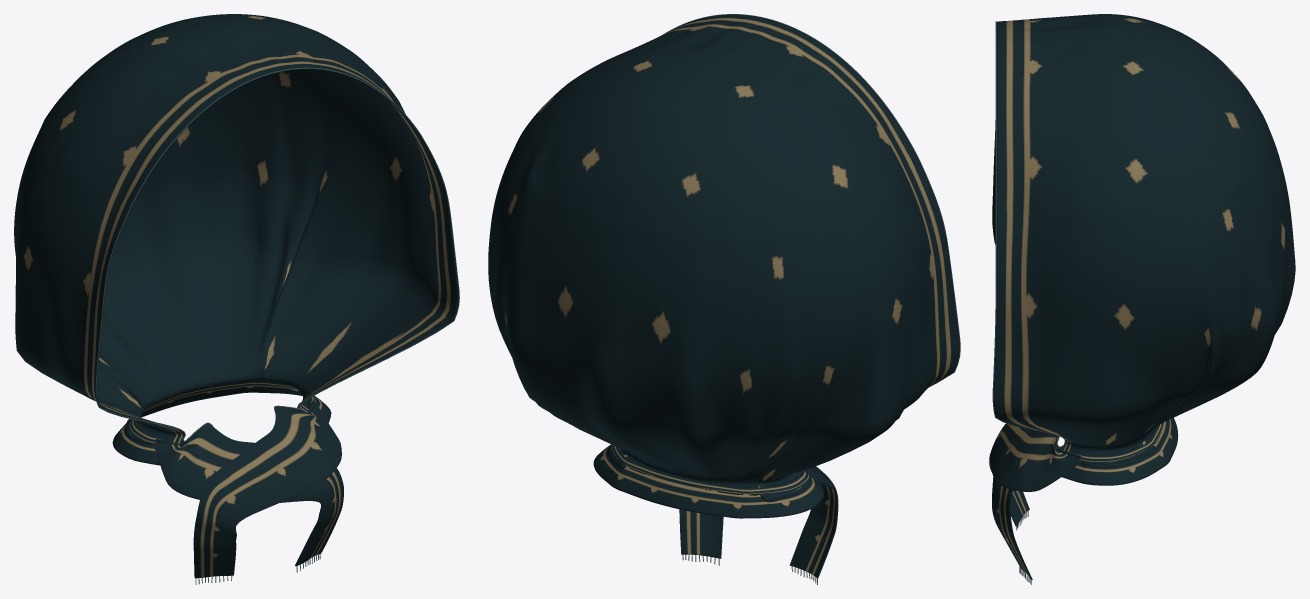
Rendered from Feminine-strappy-pashmina238-headgear.glb.
3 views of the same model, side by side, from view 1: azimuth 30°, elevation 25°; view 2: azimuth 150°, elevation 25°; view 3: azimuth 270°, elevation 25° (orthographic). The views are drawn at different scales.
Visible parts, largest first — view 1: 226 headgear / Headwear / continuous woven pashmina238, 226 headgear / Headwear / face edge238; view 2: 226 headgear / Headwear / continuous woven pashmina238, 226 headgear / Headwear / face edge238; view 3: 226 headgear / Headwear / continuous woven pashmina238, 226 headgear / Headwear / face edge238.
Part boxes in pixels (x1,y1,x2,y2): 226 headgear / Headwear / continuous woven pashmina238: (14,14,458,578); 226 headgear / Headwear / face edge238: (95,67,459,442); 226 headgear / Headwear / continuous woven pashmina238: (488,14,959,578); 226 headgear / Headwear / face edge238: (663,14,960,387); 226 headgear / Headwear / continuous woven pashmina238: (989,14,1295,579); 226 headgear / Headwear / face edge238: (992,21,1065,447).
Bounding box in the file's own units: 1.02 × 1.35 × 0.7183.
Materials: 3 (1 with a texture image).
